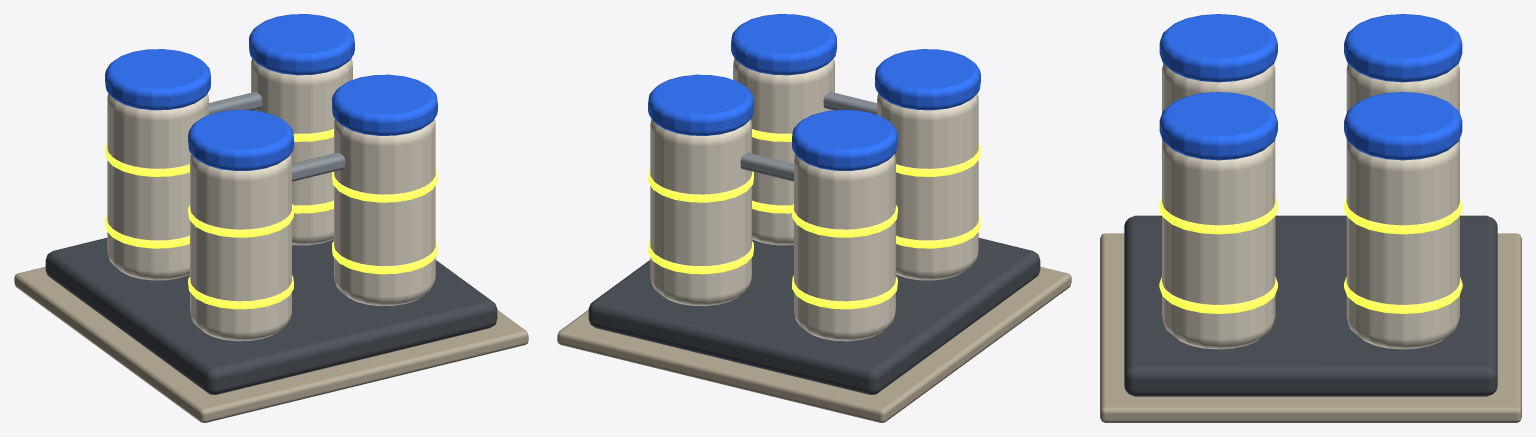
File: enrichment_plant.glb
3 renders of one model, left to right at view 1: azimuth 30°, elevation 25°; view 2: azimuth 150°, elevation 25°; view 3: azimuth 270°, elevation 25°, orthographic. The views are drawn at different scales.
Parts seen in each view (by area): view 1: stage_2__M_CreamPlastic, stage_1__M_SmokePlastic, stage_3__M_Team, stage_0__M_SugarPad, stage_2__M_E_Acid, stage_3__M_SpringSteel; view 2: stage_2__M_CreamPlastic, stage_1__M_SmokePlastic, stage_3__M_Team, stage_0__M_SugarPad, stage_2__M_E_Acid, stage_3__M_SpringSteel; view 3: stage_2__M_CreamPlastic, stage_1__M_SmokePlastic, stage_3__M_Team, stage_0__M_SugarPad, stage_2__M_E_Acid.
Part boxes in pixels (x1,y1,x2,y2): stage_2__M_CreamPlastic: [107, 58, 435, 341]; stage_1__M_SmokePlastic: [45, 238, 497, 394]; stage_3__M_Team: [105, 14, 437, 170]; stage_0__M_SugarPad: [14, 266, 528, 422]; stage_2__M_E_Acid: [105, 129, 437, 309]; stage_3__M_SpringSteel: [209, 92, 345, 181]; stage_2__M_CreamPlastic: [650, 58, 978, 341]; stage_1__M_SmokePlastic: [588, 238, 1040, 394]; stage_3__M_Team: [648, 14, 980, 170]; stage_0__M_SugarPad: [557, 266, 1071, 422]; stage_2__M_E_Acid: [648, 129, 980, 309]; stage_3__M_SpringSteel: [740, 92, 876, 181]; stage_2__M_CreamPlastic: [1162, 64, 1459, 349]; stage_1__M_SmokePlastic: [1124, 215, 1497, 396]; stage_3__M_Team: [1159, 14, 1462, 160]; stage_0__M_SugarPad: [1100, 233, 1521, 422]; stage_2__M_E_Acid: [1159, 126, 1462, 313].
Bounding box in the file's own units: 1.92 × 1.31 × 1.92.
